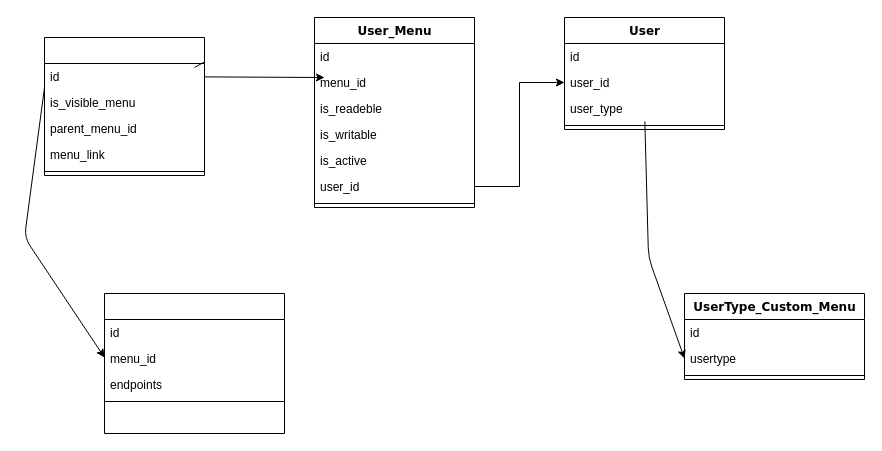
Image size: 882x451. Some labels were removed from this diagram. The box of each missing label's shape, as (x1, y1, x2, y2) in pixels:
Application_Menu: (44, 36, 204, 176)
menu_page_urls: (104, 292, 284, 434)
